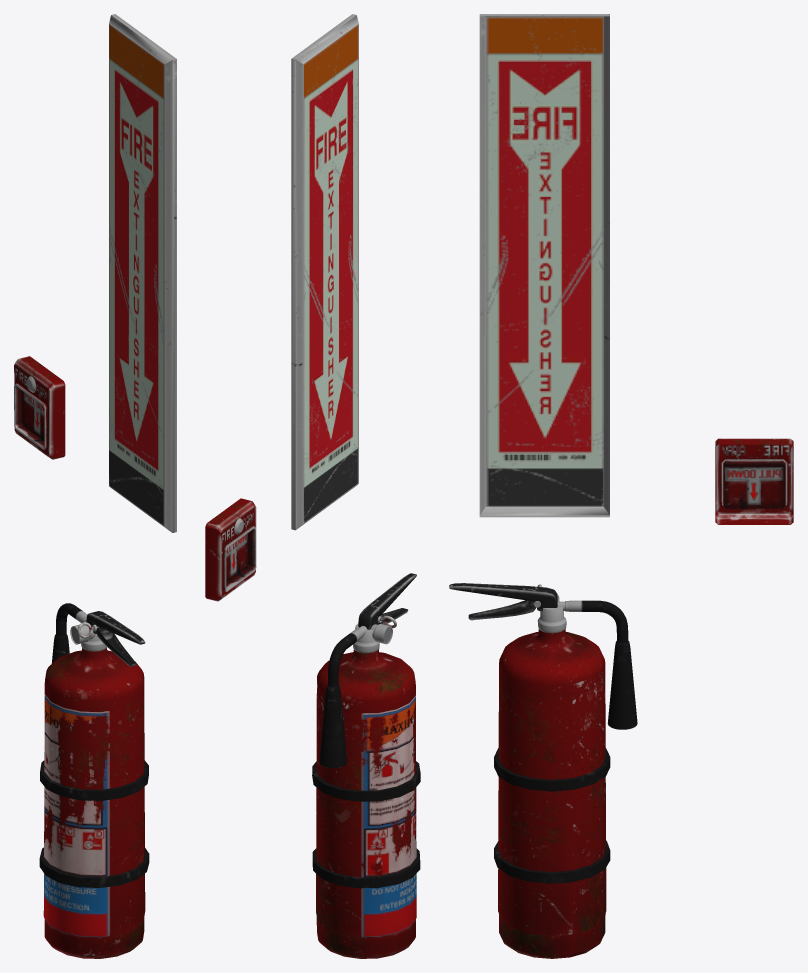
File: Prop_FireExtinguisher.fbx
The picture shows the model from 3 angles, left to right: view 1: azimuth 30°, elevation 25°; view 2: azimuth 150°, elevation 25°; view 3: azimuth 270°, elevation 25°; orthographic projection. The views are drawn at different scales.
Visible parts, largest first — view 1: Prop_FireExtinguisher; view 2: Prop_FireExtinguisher; view 3: Prop_FireExtinguisher.
Boxes of the visible parts, <box> form: Prop_FireExtinguisher: <box>14,14,176,958</box>; Prop_FireExtinguisher: <box>205,14,420,958</box>; Prop_FireExtinguisher: <box>449,14,793,958</box>.
Size of the model in its own units: 8.21 by 73.32 by 24.12.
